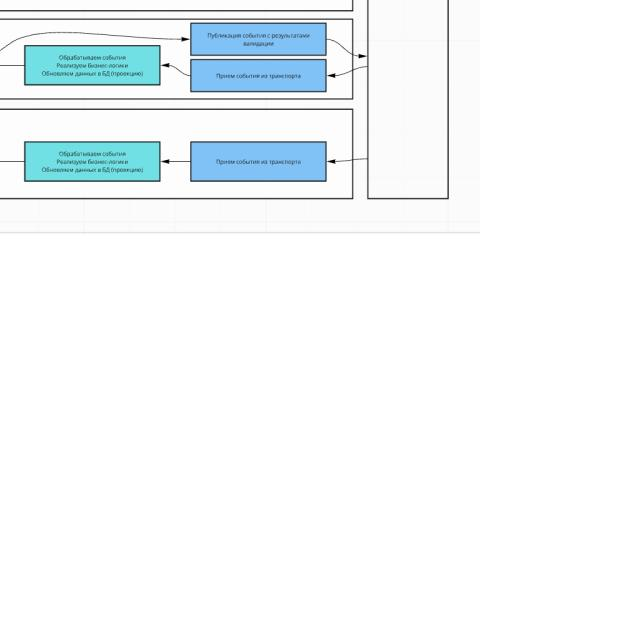arrow: (0, 31, 190, 51), (326, 38, 367, 59), (327, 65, 367, 79), (161, 63, 191, 78), (327, 158, 368, 166), (161, 159, 191, 164)
rectangle: (24, 45, 161, 86), (24, 142, 161, 182), (191, 141, 327, 181), (190, 23, 327, 56), (191, 59, 327, 92)
